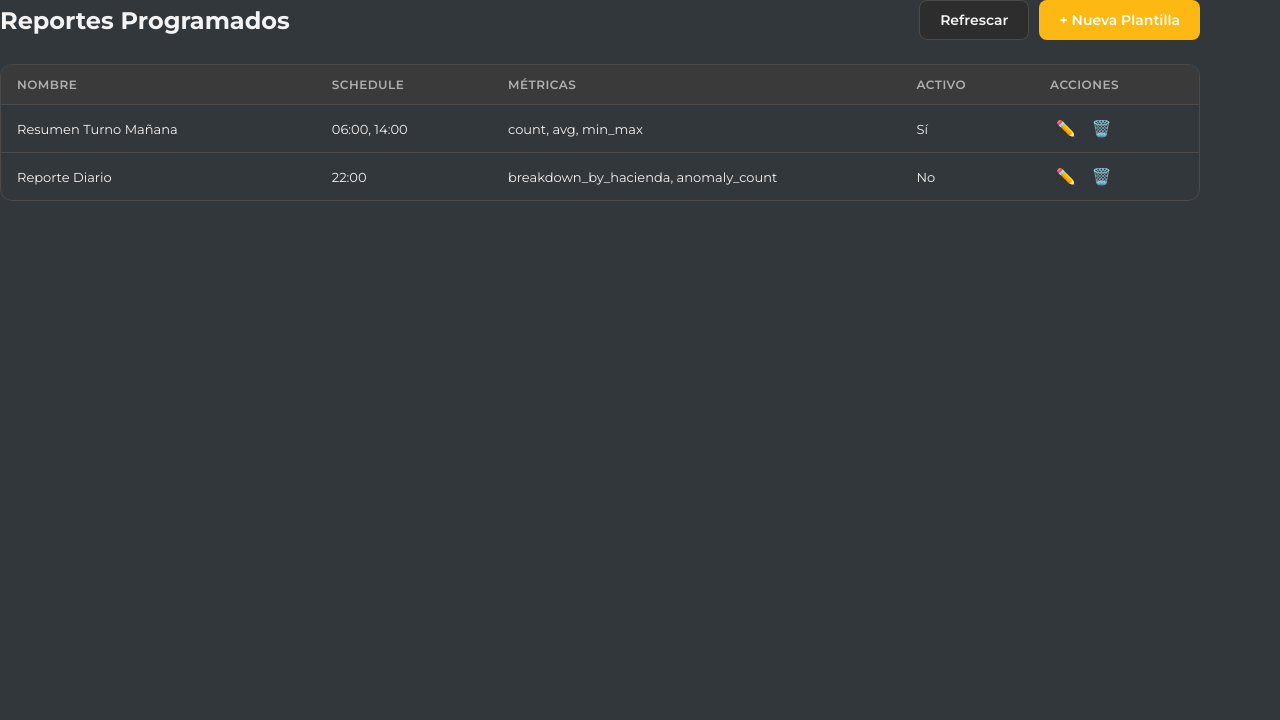
Test case: AdminReportes › crear plantilla (R5) › abre modal al pulsar '+ Nueva Plantilla'
The image size is (1280, 720).
Step 1. Click the button "+ Nueva Plantilla" → coordinates (1120, 20), box x1=1039 y1=0 x2=1200 y2=40
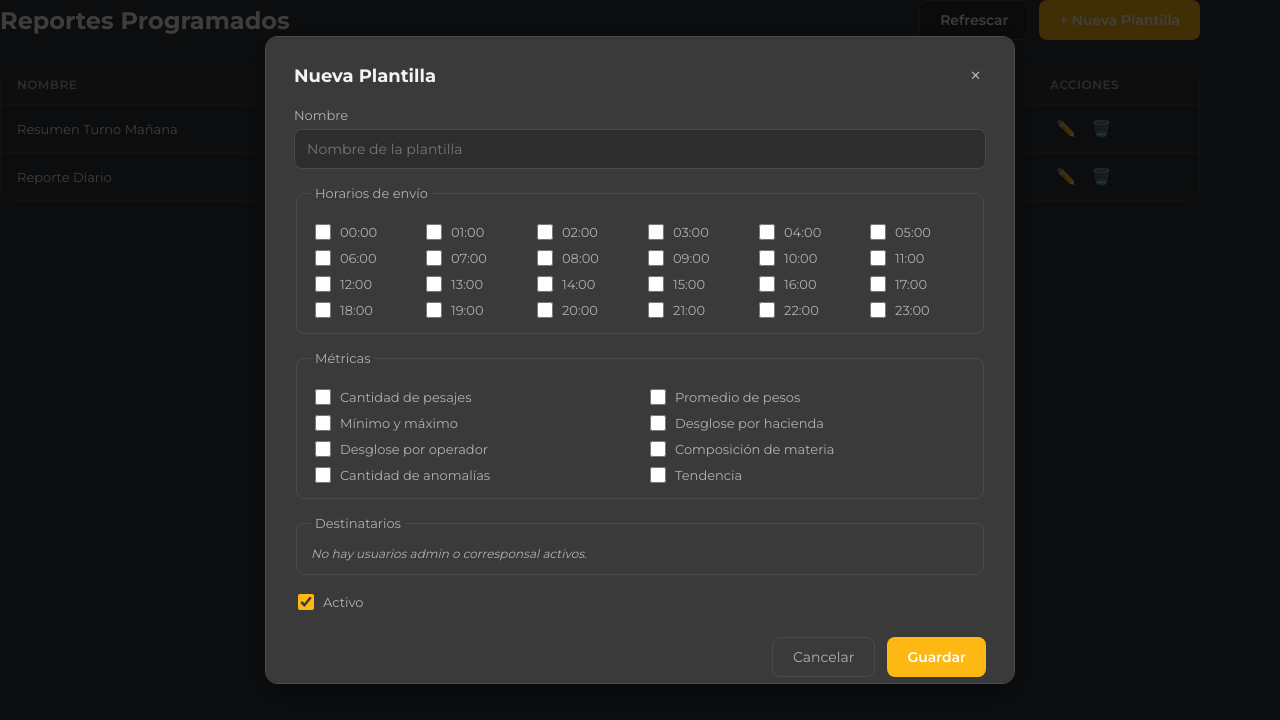
Now the heading "Nueva Plantilla" is shown, box x1=294 y1=65 x2=436 y2=87
